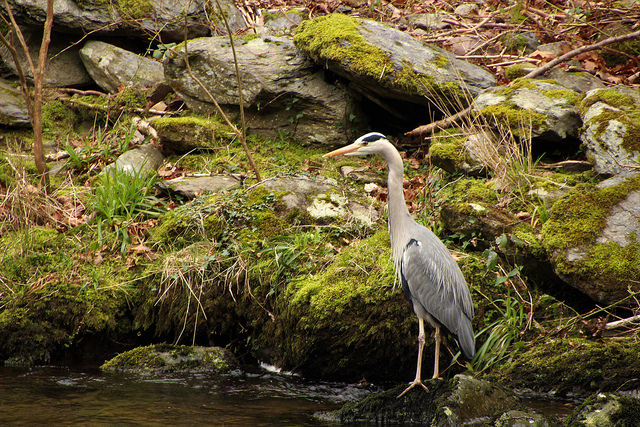heron: (321, 129, 477, 396)
